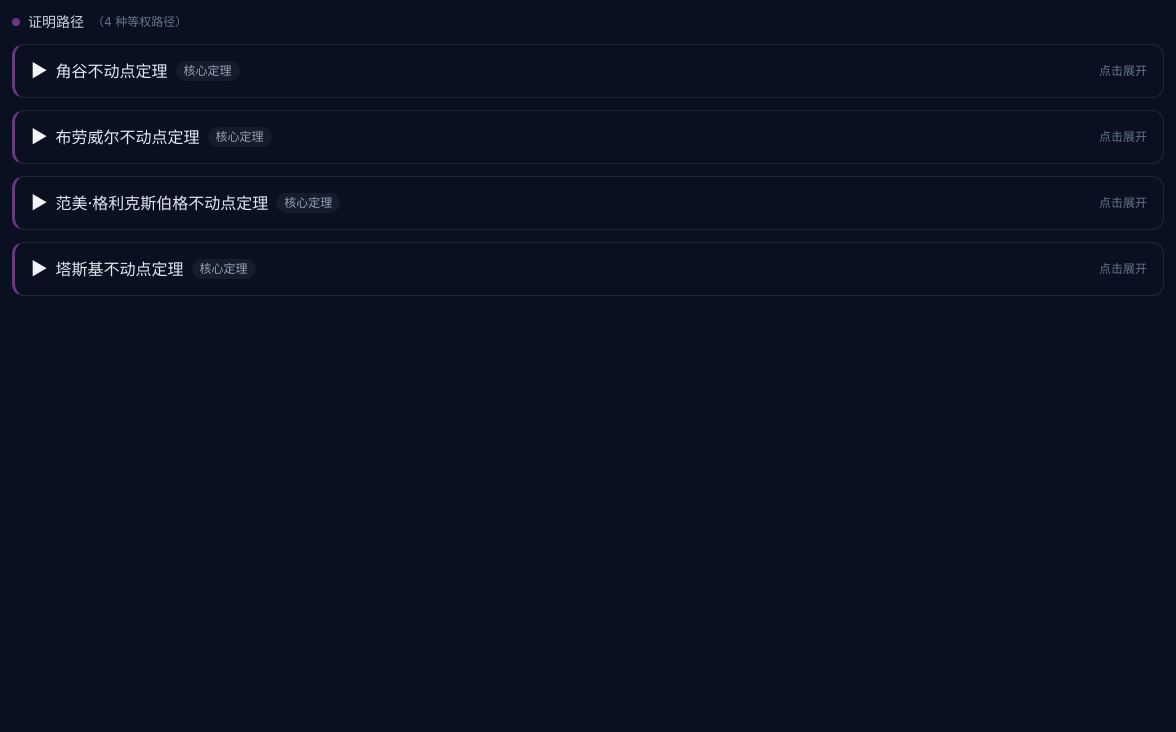
ProofTree › 点击展开查看证明概要
Expected: the text "最佳反应对应" is not shown
Click the button "▶ 角谷不动点定理 核心定理 点击展开": [112, 71] box [15, 45, 1163, 97]
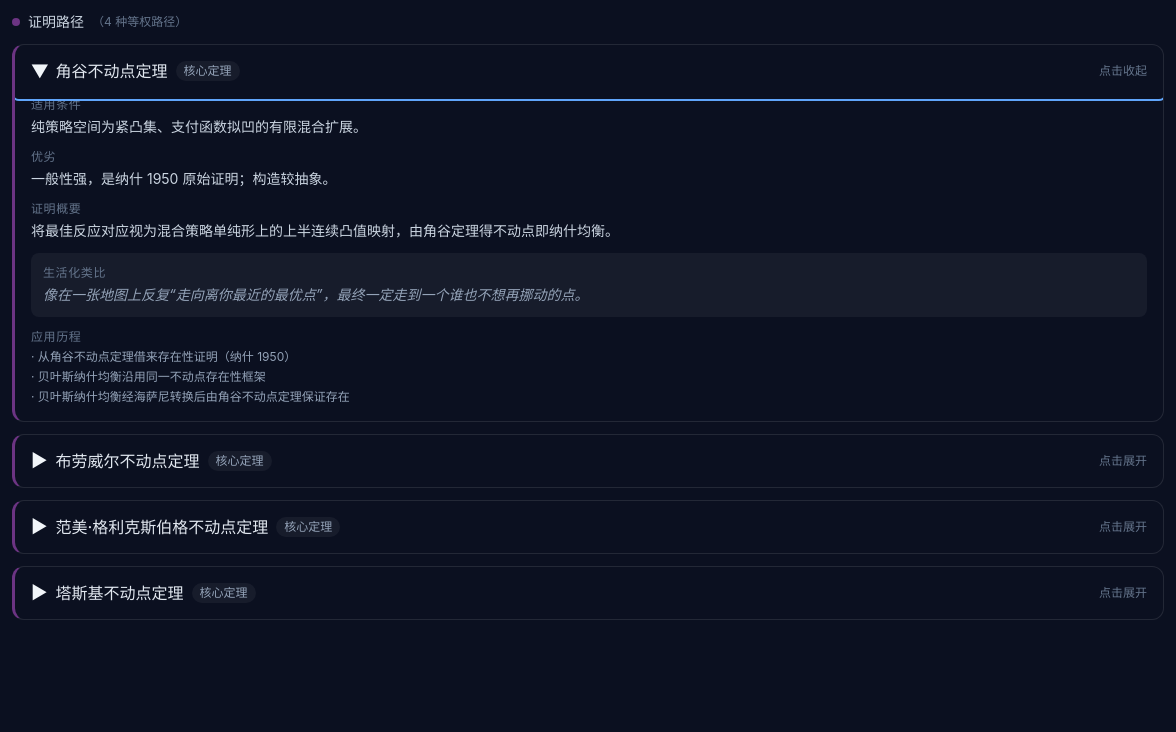
Result: the text "将最佳反应对应视为混合策略单纯形上的上半连续凸值映射，由角谷定理得不动点即纳什均衡。" is shown at [31, 222, 619, 239]
